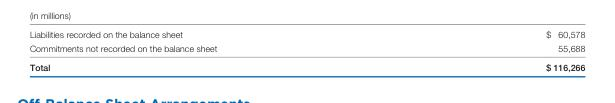table: (28, 28, 584, 72)
table column: (28, 28, 380, 72), (380, 28, 584, 72)
table row: (28, 40, 584, 57), (28, 57, 584, 72), (28, 28, 584, 40)
